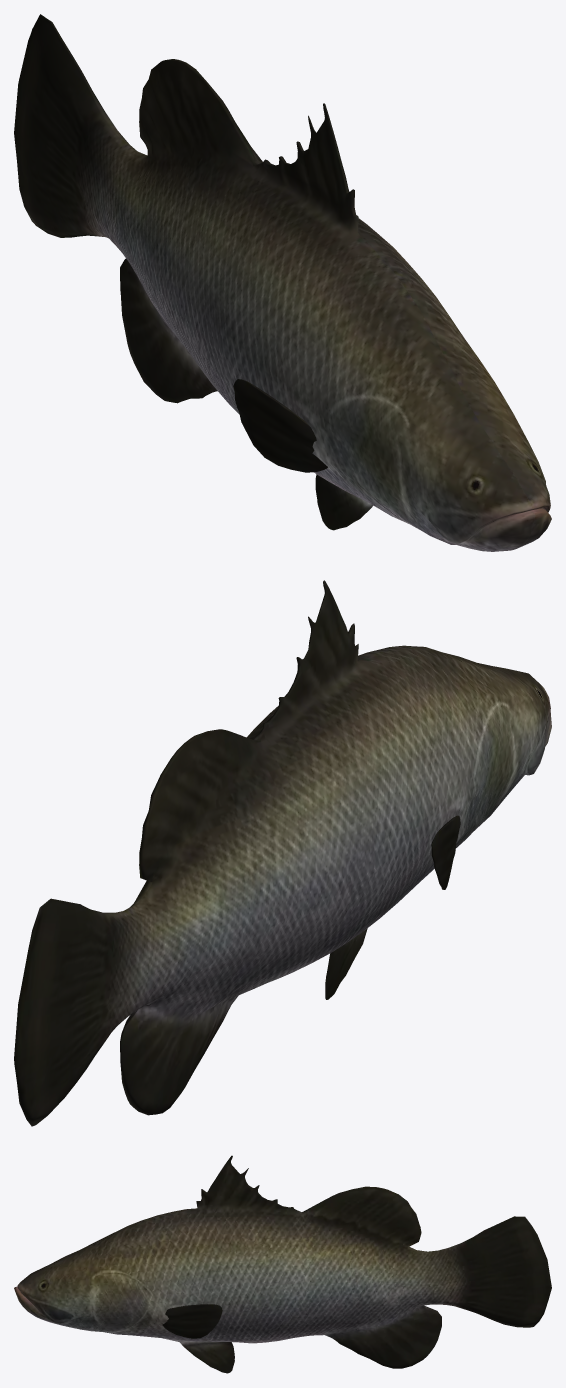
File: BarramundiFish.glb
3 views of the same model, one above another, from view 1: azimuth 30°, elevation 25°; view 2: azimuth 150°, elevation 25°; view 3: azimuth 270°, elevation 25° (orthographic). The views are drawn at different scales.
Visible parts, largest first — view 1: BarramundiFish; view 2: BarramundiFish; view 3: BarramundiFish.
Boxes of the visible parts, x1=… form: BarramundiFish: x1=14, y1=14, x2=551, y2=551; BarramundiFish: x1=14, y1=580, x2=551, y2=1126; BarramundiFish: x1=14, y1=1155, x2=551, y2=1373.
Bounding box in the file's own units: 0.1429 × 0.2875 × 0.6431.
Materials: 1 (1 with a texture image).
